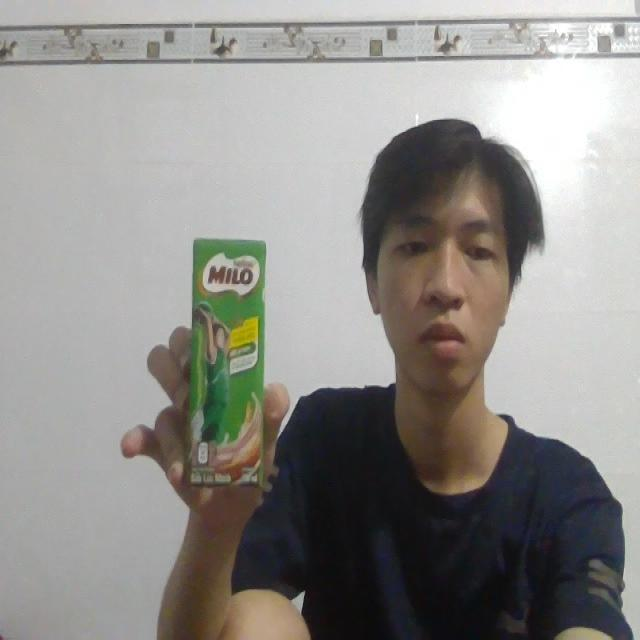sua milo: (178, 226, 272, 494)
